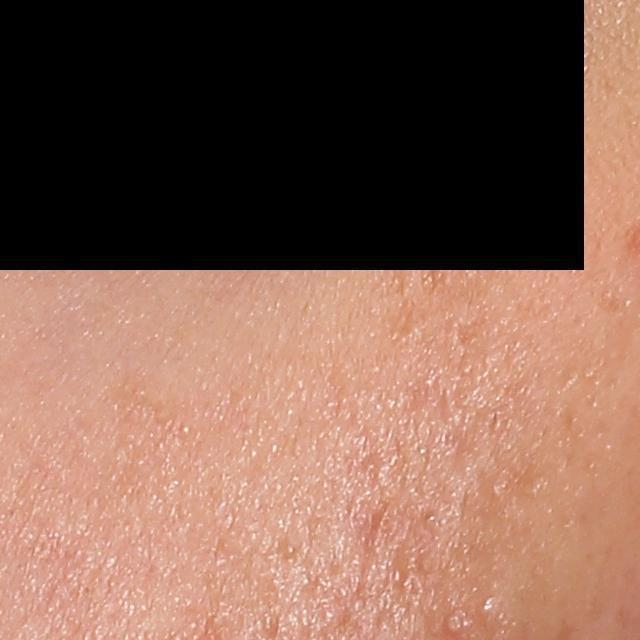comedo: (281, 537, 300, 558)
